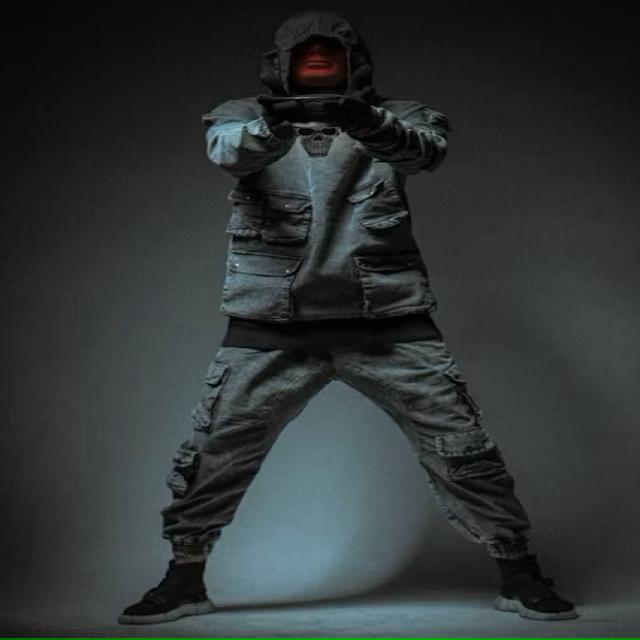Edited images: (103, 6, 581, 640)
